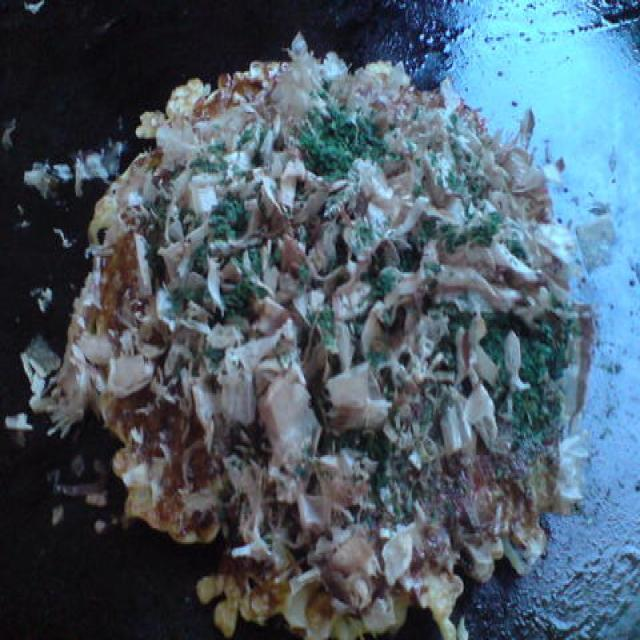蛋糕甜品: (68, 53, 600, 640)
